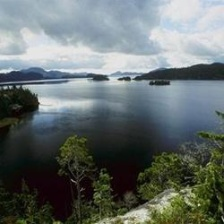neutral: (1, 82, 224, 223)
